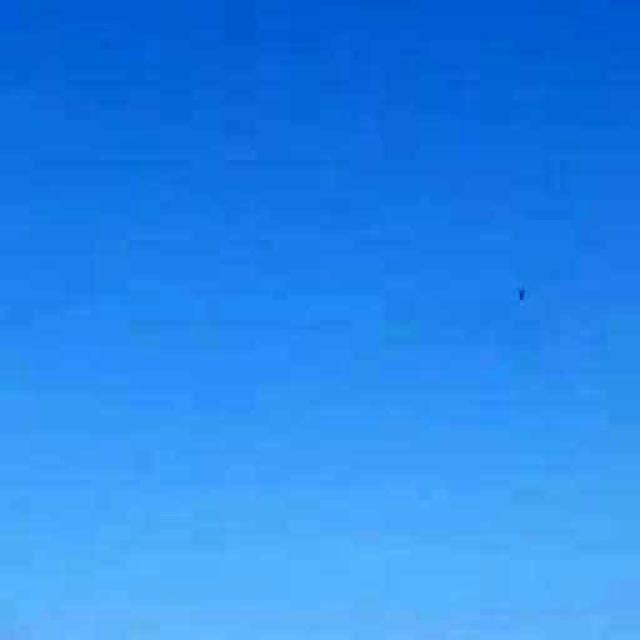drone: (499, 260, 552, 326)
